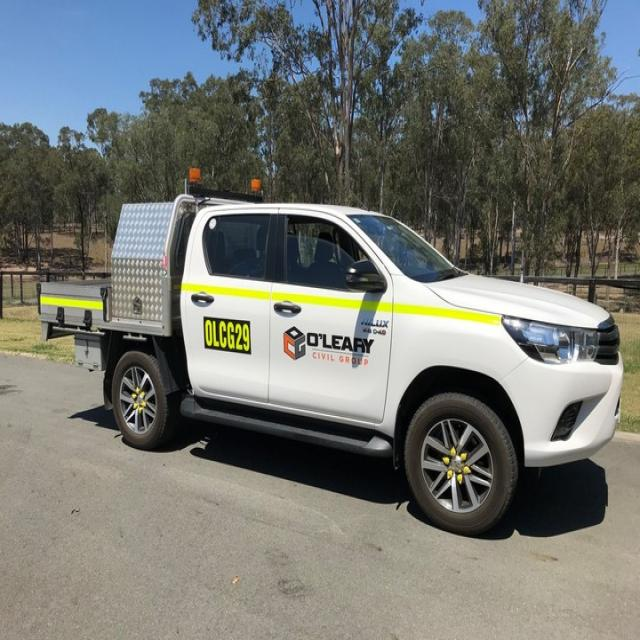light_vehicle: (29, 178, 631, 539)
